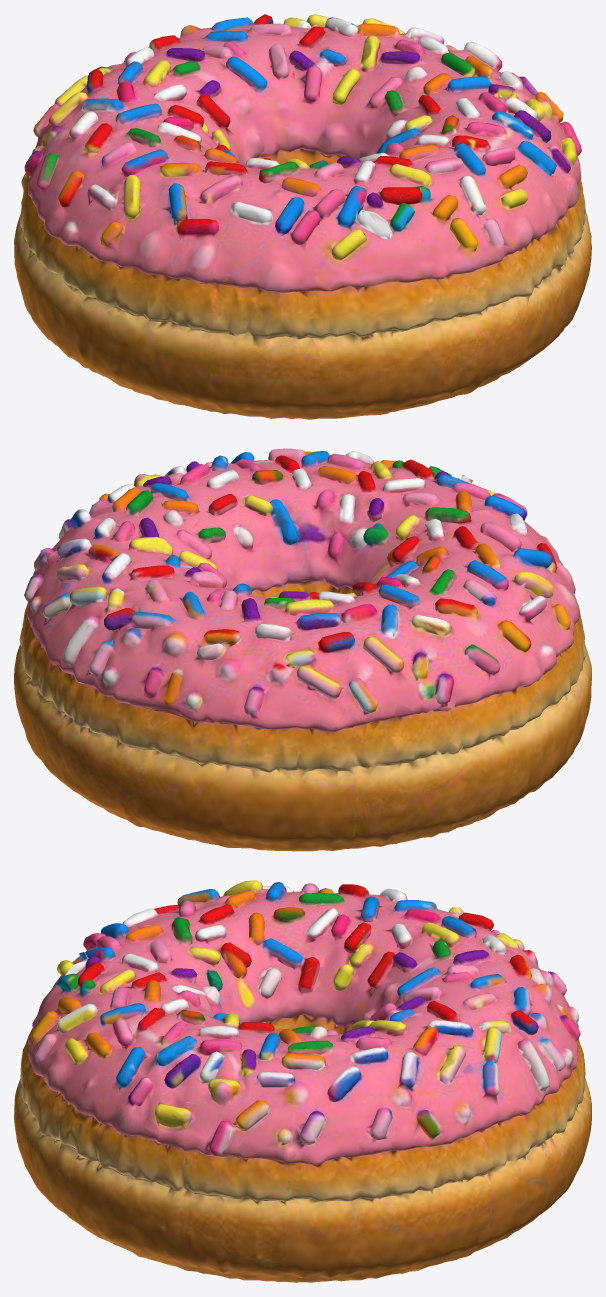
3 views of the same model, one above another, from view 1: azimuth 30°, elevation 25°; view 2: azimuth 150°, elevation 25°; view 3: azimuth 270°, elevation 25° (orthographic).
Size of the model in its own units: 1.9 by 0.7908 by 1.9.
Materials: 1 (1 with a texture image).
